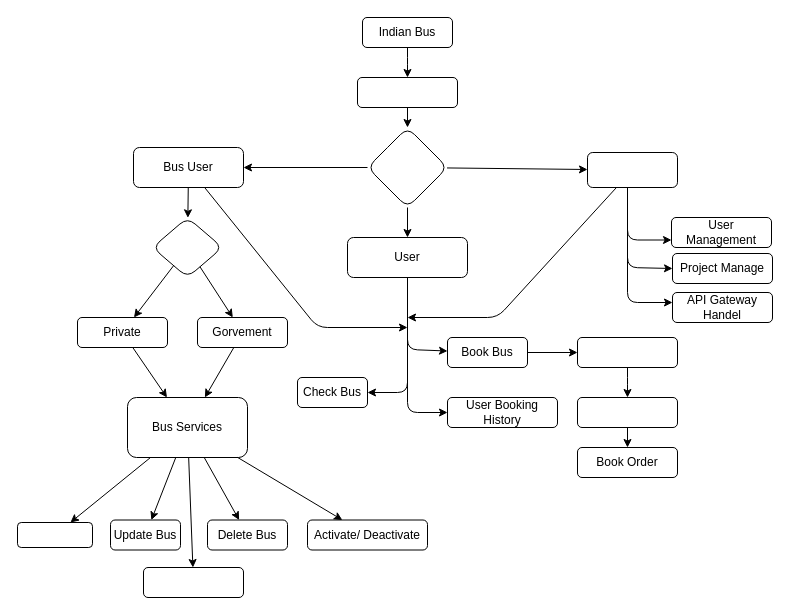
Some shapes in this 790 by 615 pixel diagram are drawn without their labels. Here are the shapes that lost their labels. From the top down, the box of each, then its label:
(356, 76, 458, 108): User Login
(366, 126, 448, 208): User Type
(586, 152, 678, 188): Admin
(152, 216, 222, 278): Bus Type
(576, 336, 678, 368): User Details
(576, 396, 678, 428): Payment Details
(16, 522, 92, 548): Add Bus
(142, 566, 244, 598): Add Check points
